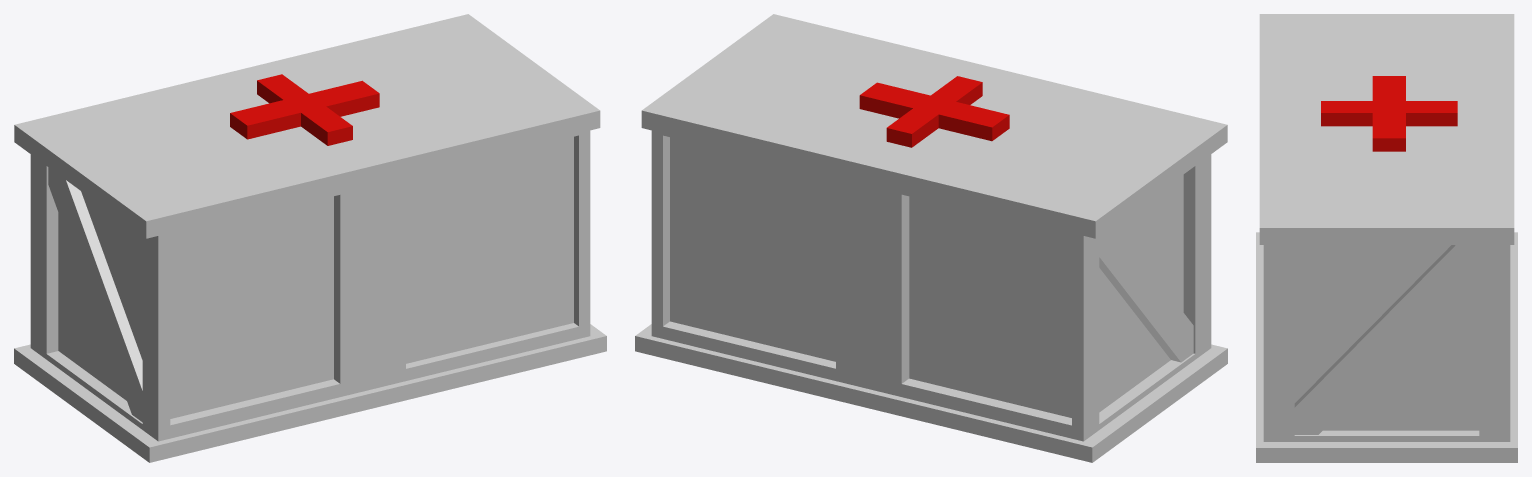
The model's file is CaixasMedicas2.fbx.
3 renders of one model, left to right at view 1: azimuth 30°, elevation 25°; view 2: azimuth 150°, elevation 25°; view 3: azimuth 270°, elevation 25°, orthographic. The views are drawn at different scales.
Visible parts, largest first — view 1: Caixa1; view 2: Caixa1; view 3: Caixa1.
Part boxes in pixels (bbox=[...]): Caixa1: bbox=[14, 14, 606, 462]; Caixa1: bbox=[635, 14, 1227, 462]; Caixa1: bbox=[1256, 14, 1517, 462].
Bounding box in the file's own units: 415 × 220 × 212.
